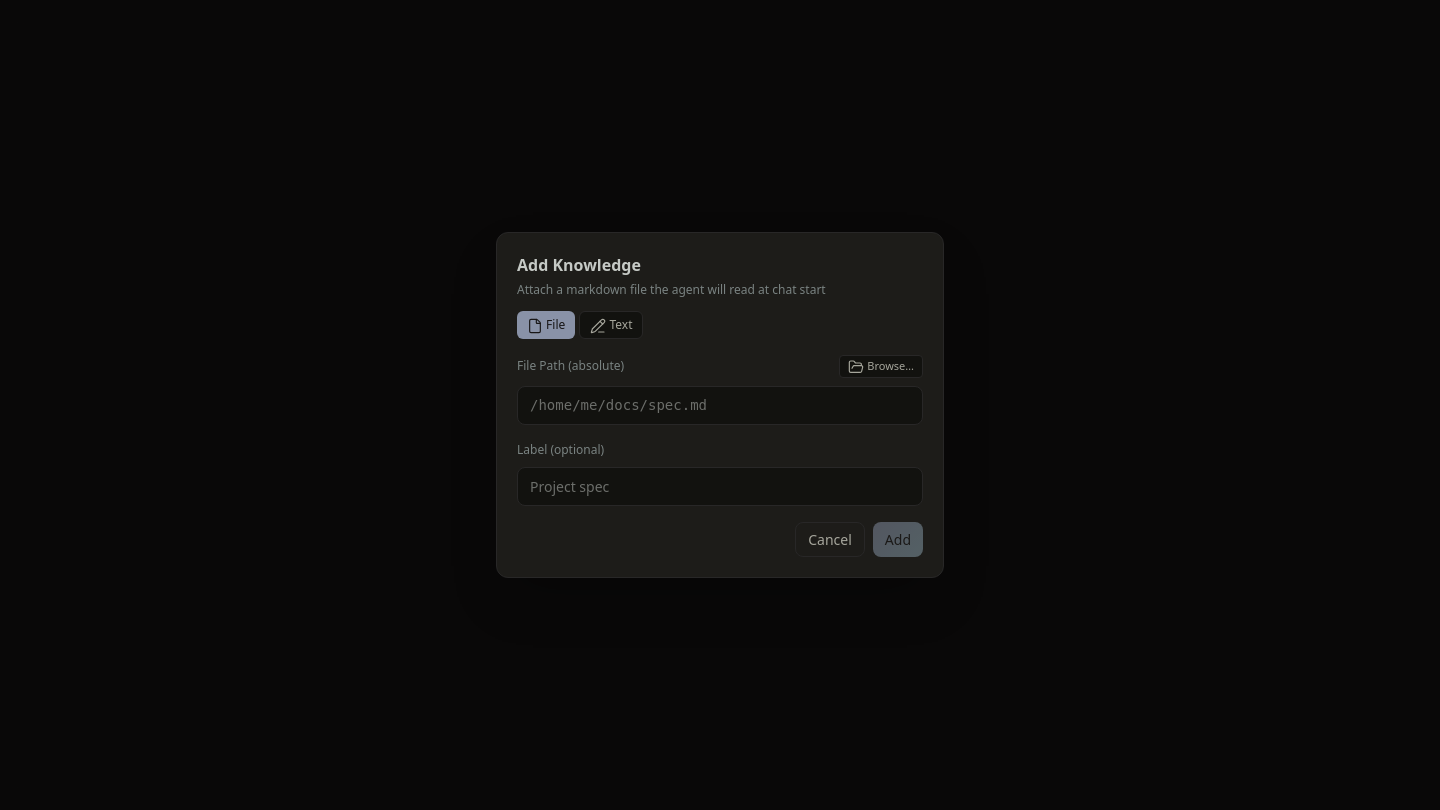
Test: AgentKnowledgeDialog text mode › switching to text mode shows the textarea and hides path input
The width and height of the screenshot is (1440, 810).
Click the tab with test id "agent-knowledge-mode-text".
click(611, 325)  # box 579,311 -> 644,339
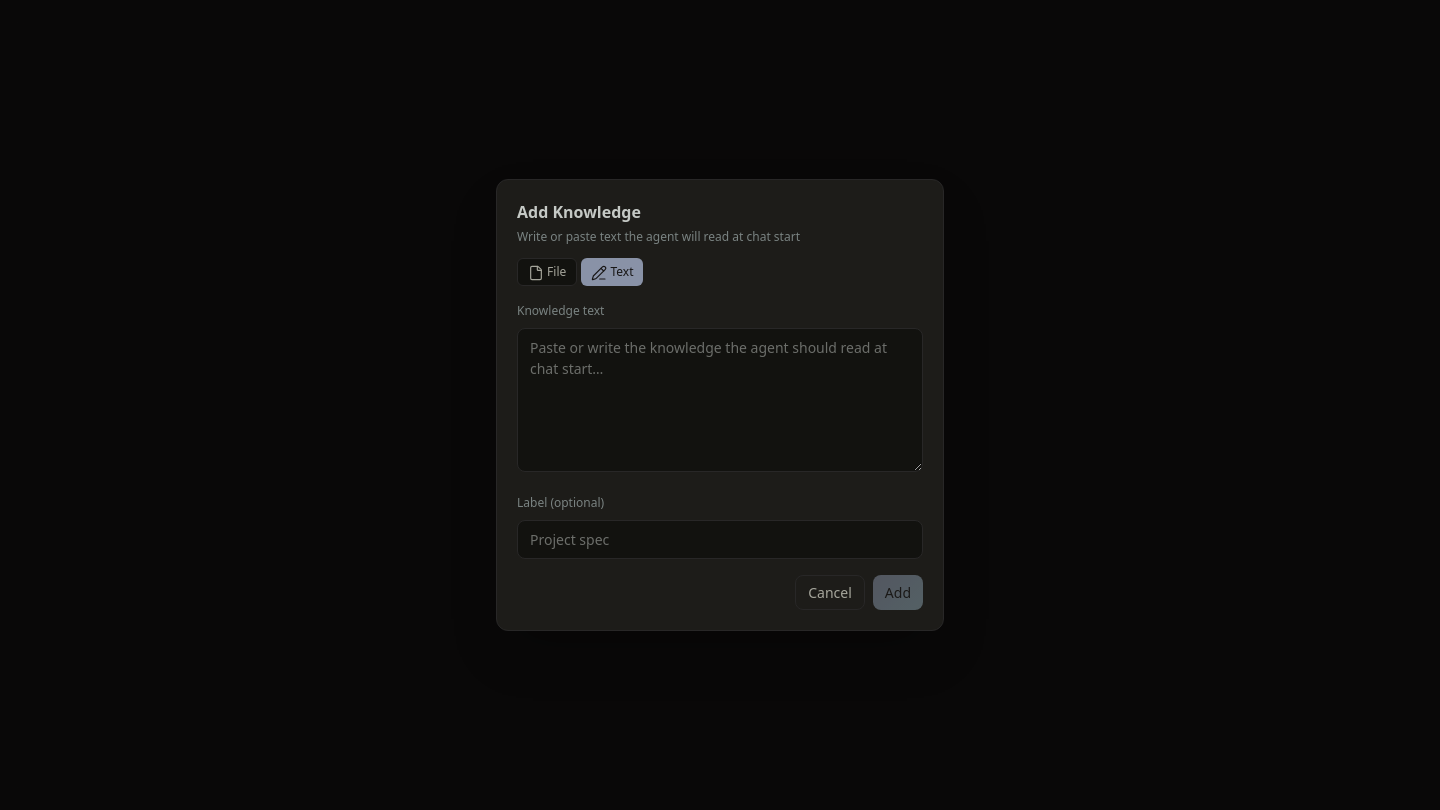
Result: the text box with test id "agent-knowledge-content" is shown at 517,328 -> 923,472
Result: the field with test id "agent-knowledge-path" is gone
